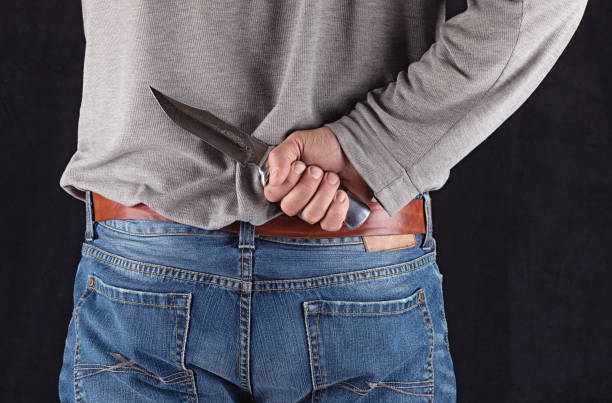knife: (148, 85, 370, 230)
